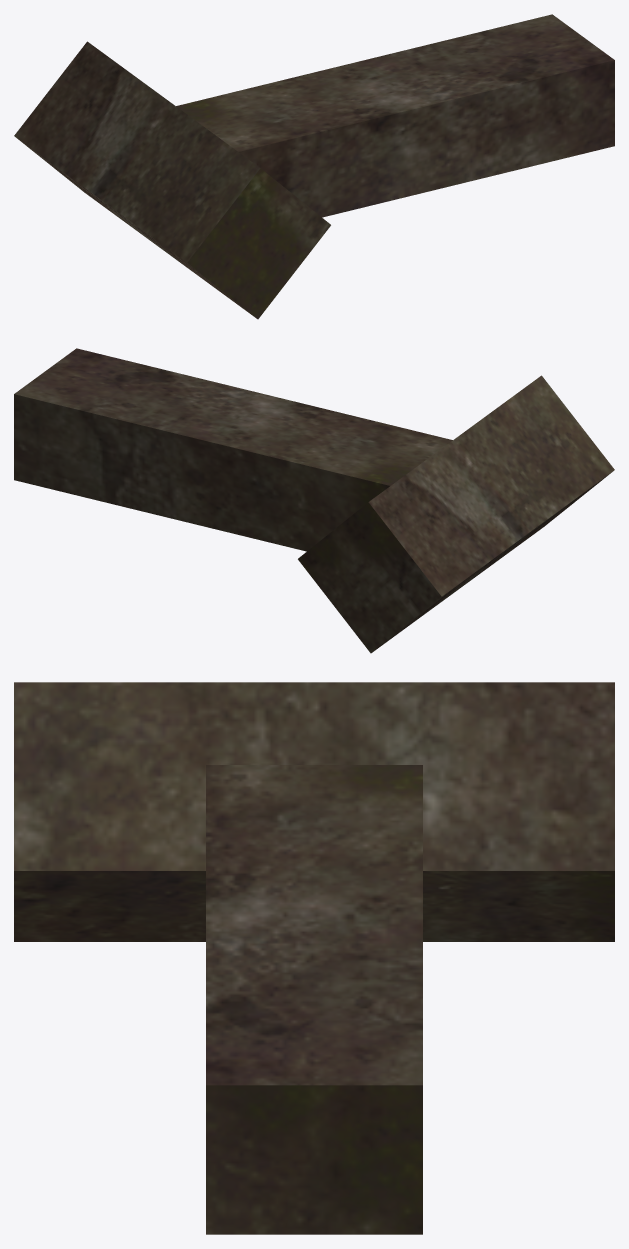
File: TI_Hinge.fbx
3 renders of one model, top to bottom at view 1: azimuth 30°, elevation 25°; view 2: azimuth 150°, elevation 25°; view 3: azimuth 270°, elevation 25°, orthographic. The views are drawn at different scales.
Parts seen in each view (by area): view 1: TI_Hinge; view 2: TI_Hinge; view 3: TI_Hinge.
Part boxes in pixels (x1,y1,x2,y2): TI_Hinge: (14, 14, 614, 319); TI_Hinge: (14, 348, 614, 653); TI_Hinge: (14, 682, 614, 1234).
Size of the model in its own units: 0.405 by 0.1209 by 0.2516.
